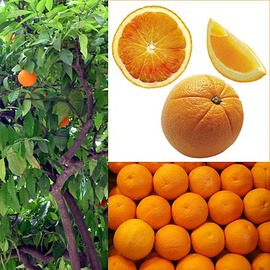orange: (160, 74, 245, 159), (113, 218, 157, 262), (170, 192, 210, 228), (116, 164, 154, 201)
